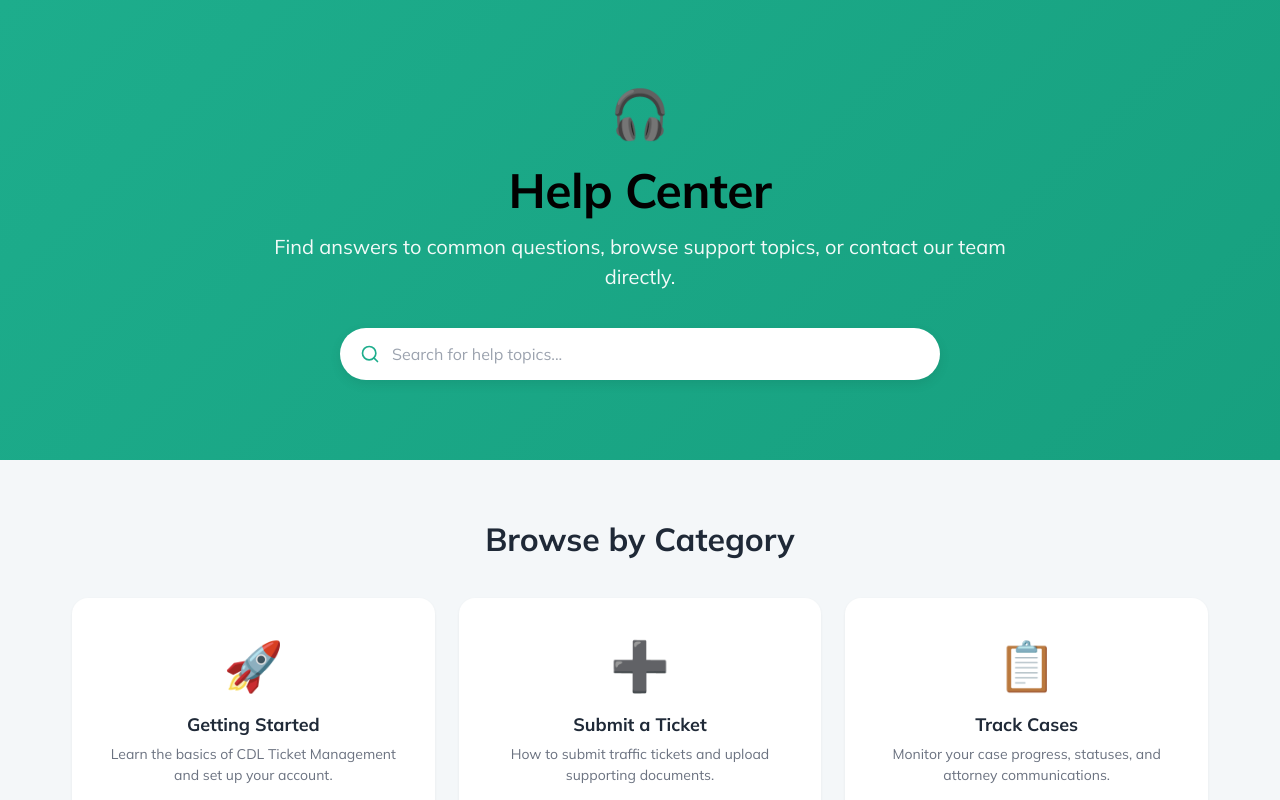
Test: HelpComponent › Search › shows no-results when nothing matches
The width and height of the screenshot is (1280, 800).
Type "xyznonexistent" into the field with class "search-input".
click(640, 354); type("xyznonexistent")  # box 340,328 -> 940,380
(page scrolled)
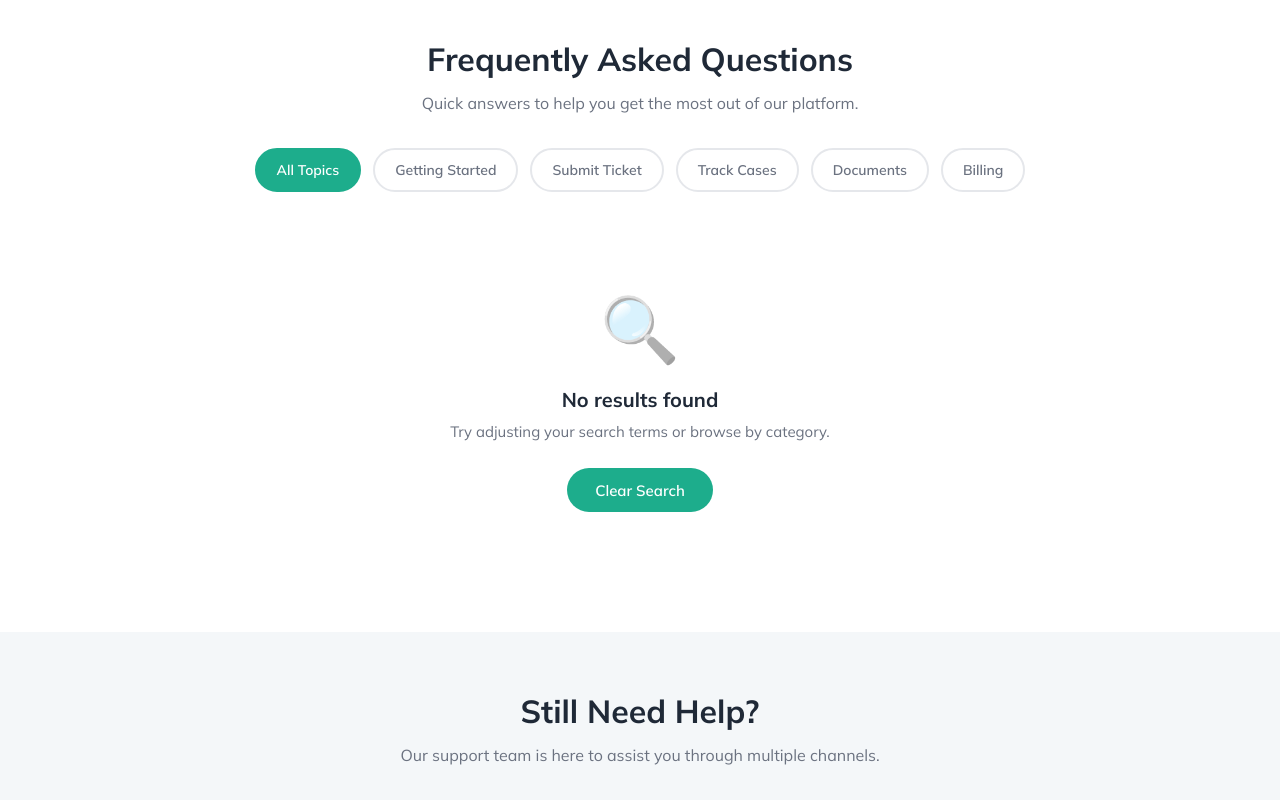
Expected: the element with class "no-results" is shown, 450,288 -> 830,512
Expected: the heading "No results found" is shown, 562,387 -> 718,412
